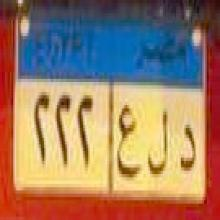2: (76, 89, 96, 171), (54, 89, 74, 171), (32, 88, 51, 173)
ain: (114, 96, 143, 184)
daal: (178, 117, 200, 186)
laam: (145, 108, 172, 184)
